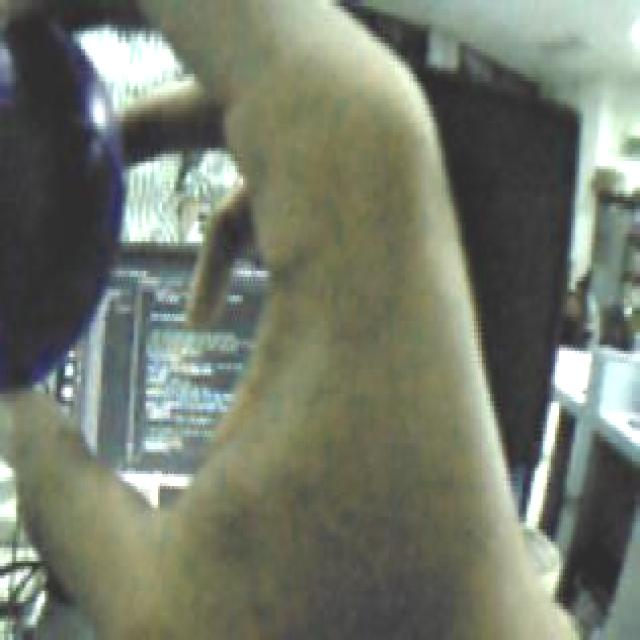BallPurple: (0, 18, 125, 392)
